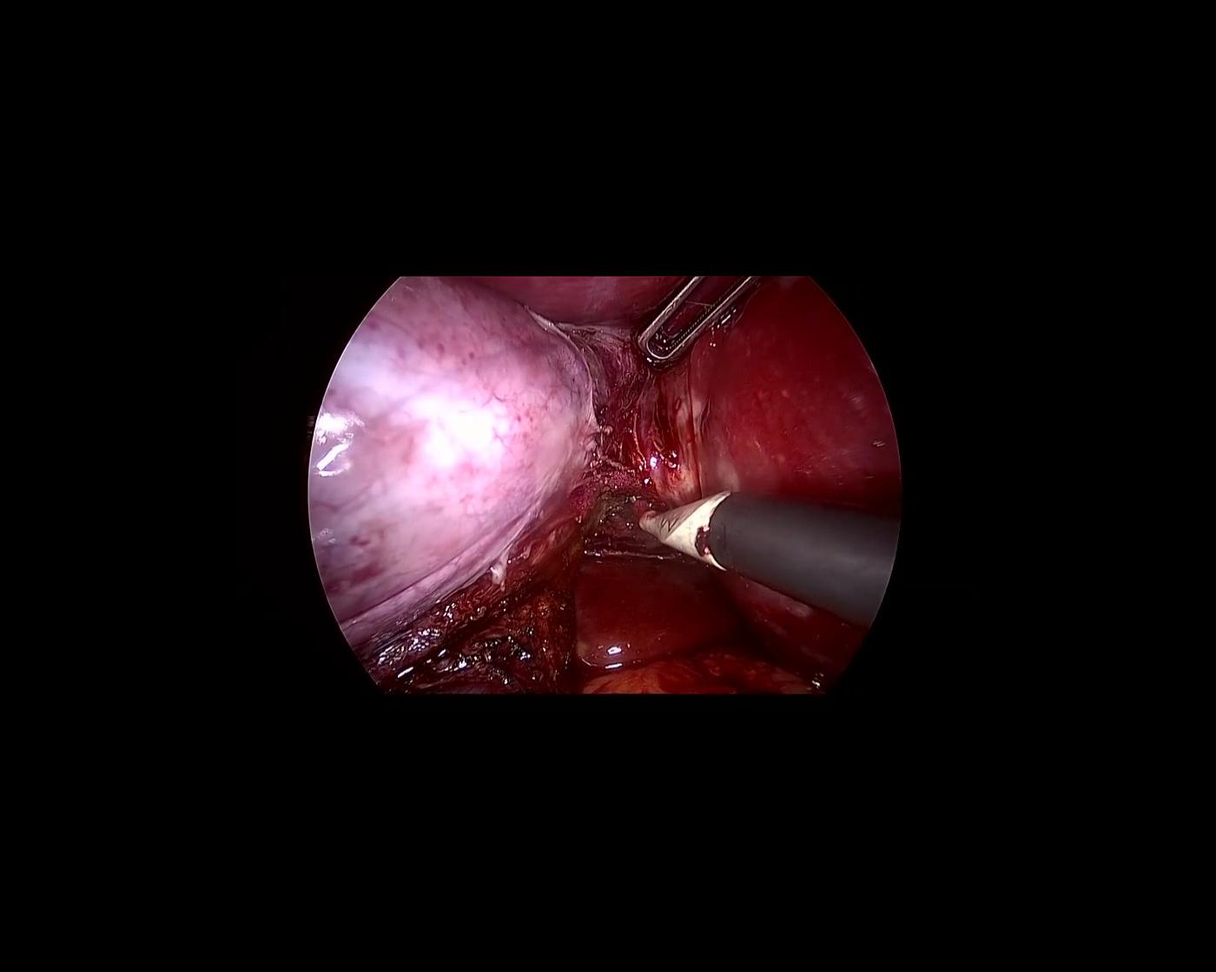Cautery: (613, 472, 899, 634)
Forceps: (625, 240, 761, 375)
Gallbladder: (202, 236, 636, 680)
Liver: (477, 279, 897, 682)
